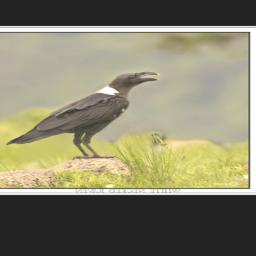Crow: (4, 71, 161, 160)
